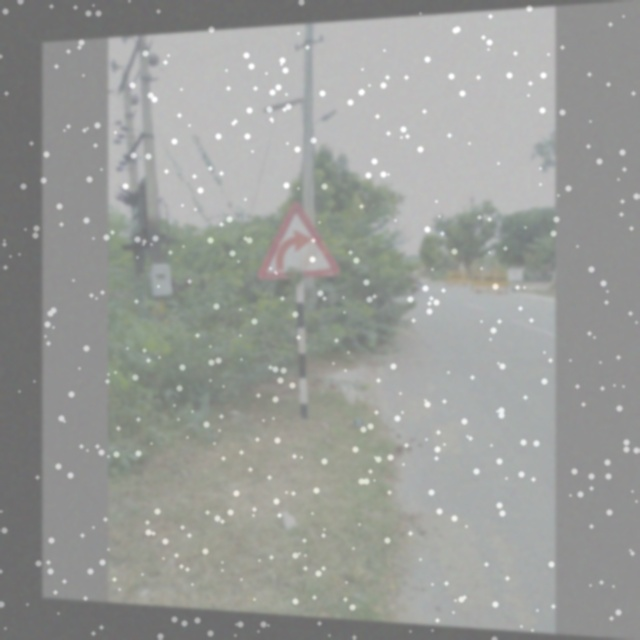Right_Hand_Curve: (257, 197, 343, 282)
